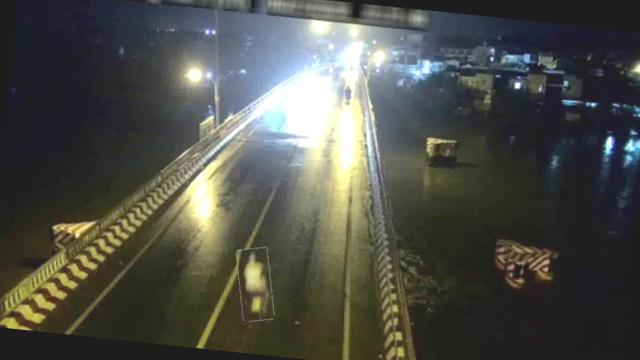Bike: (232, 246, 278, 323)
